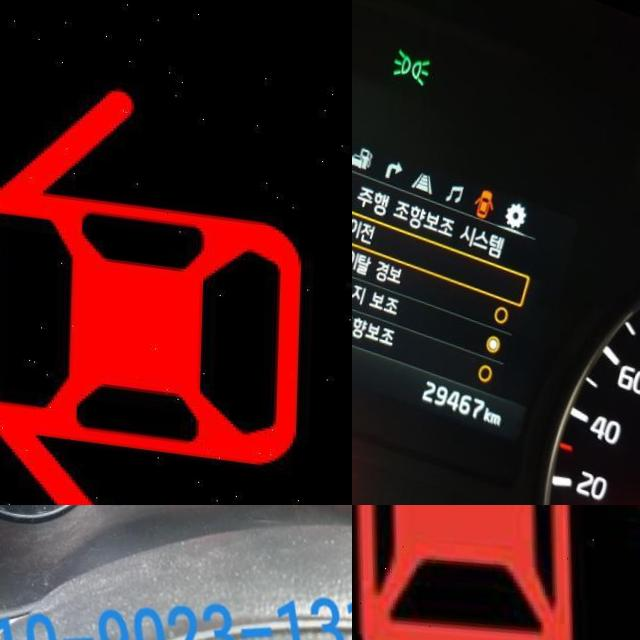Doors: (471, 171, 499, 210)
SideLamp: (390, 36, 433, 79)
